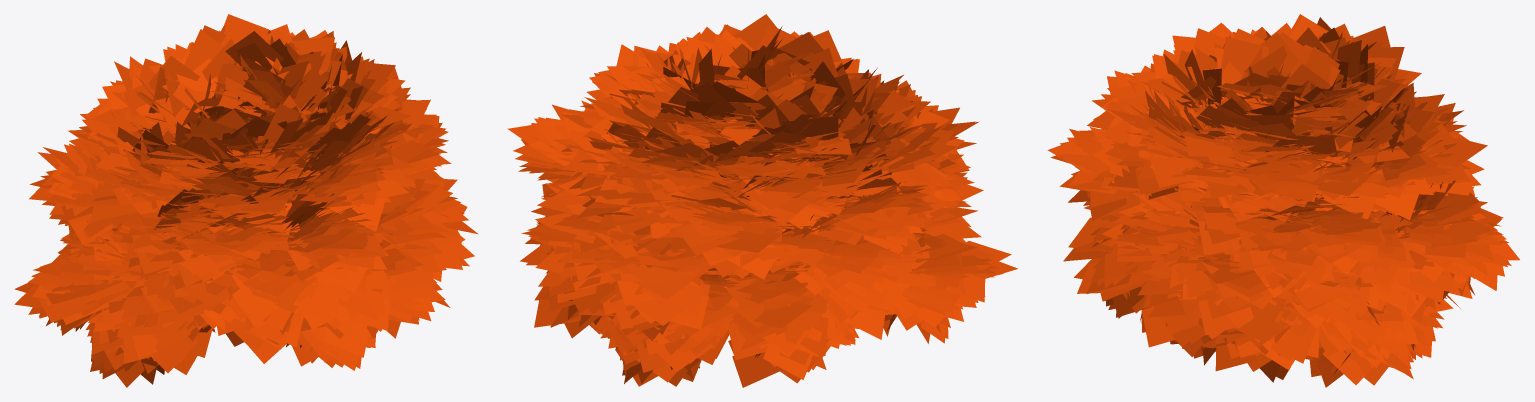
Rendered from arbusto fall2.fbx.
3 renders of one model, left to right at view 1: azimuth 30°, elevation 25°; view 2: azimuth 150°, elevation 25°; view 3: azimuth 270°, elevation 25°, orthographic.
Visible parts, largest first — view 1: leaves.002; view 2: leaves.002; view 3: leaves.002.
Boxes of the visible parts, <box> form: leaves.002: <box>14,14,478,387</box>; leaves.002: <box>507,14,1017,387</box>; leaves.002: <box>1047,14,1519,387</box>.
Bounding box in the file's own units: 180 × 117 × 166.
